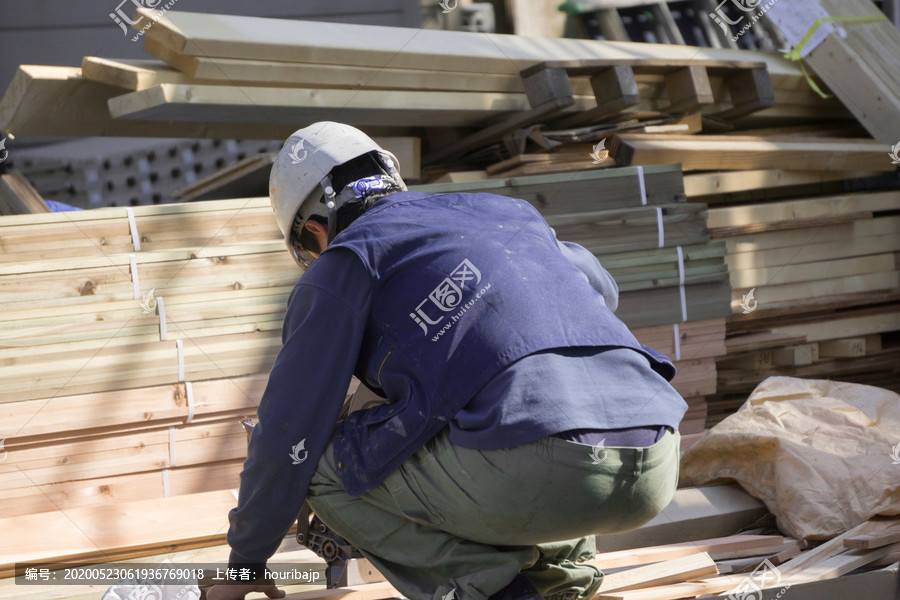safetyhat: (226, 104, 696, 574)
